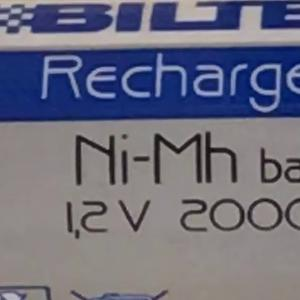NI-MH: (65, 121, 247, 196)
